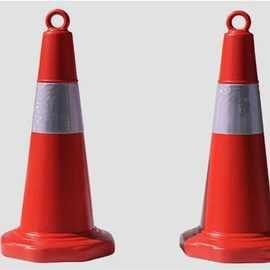cone_barrel: (4, 12, 103, 260), (181, 17, 269, 259)
